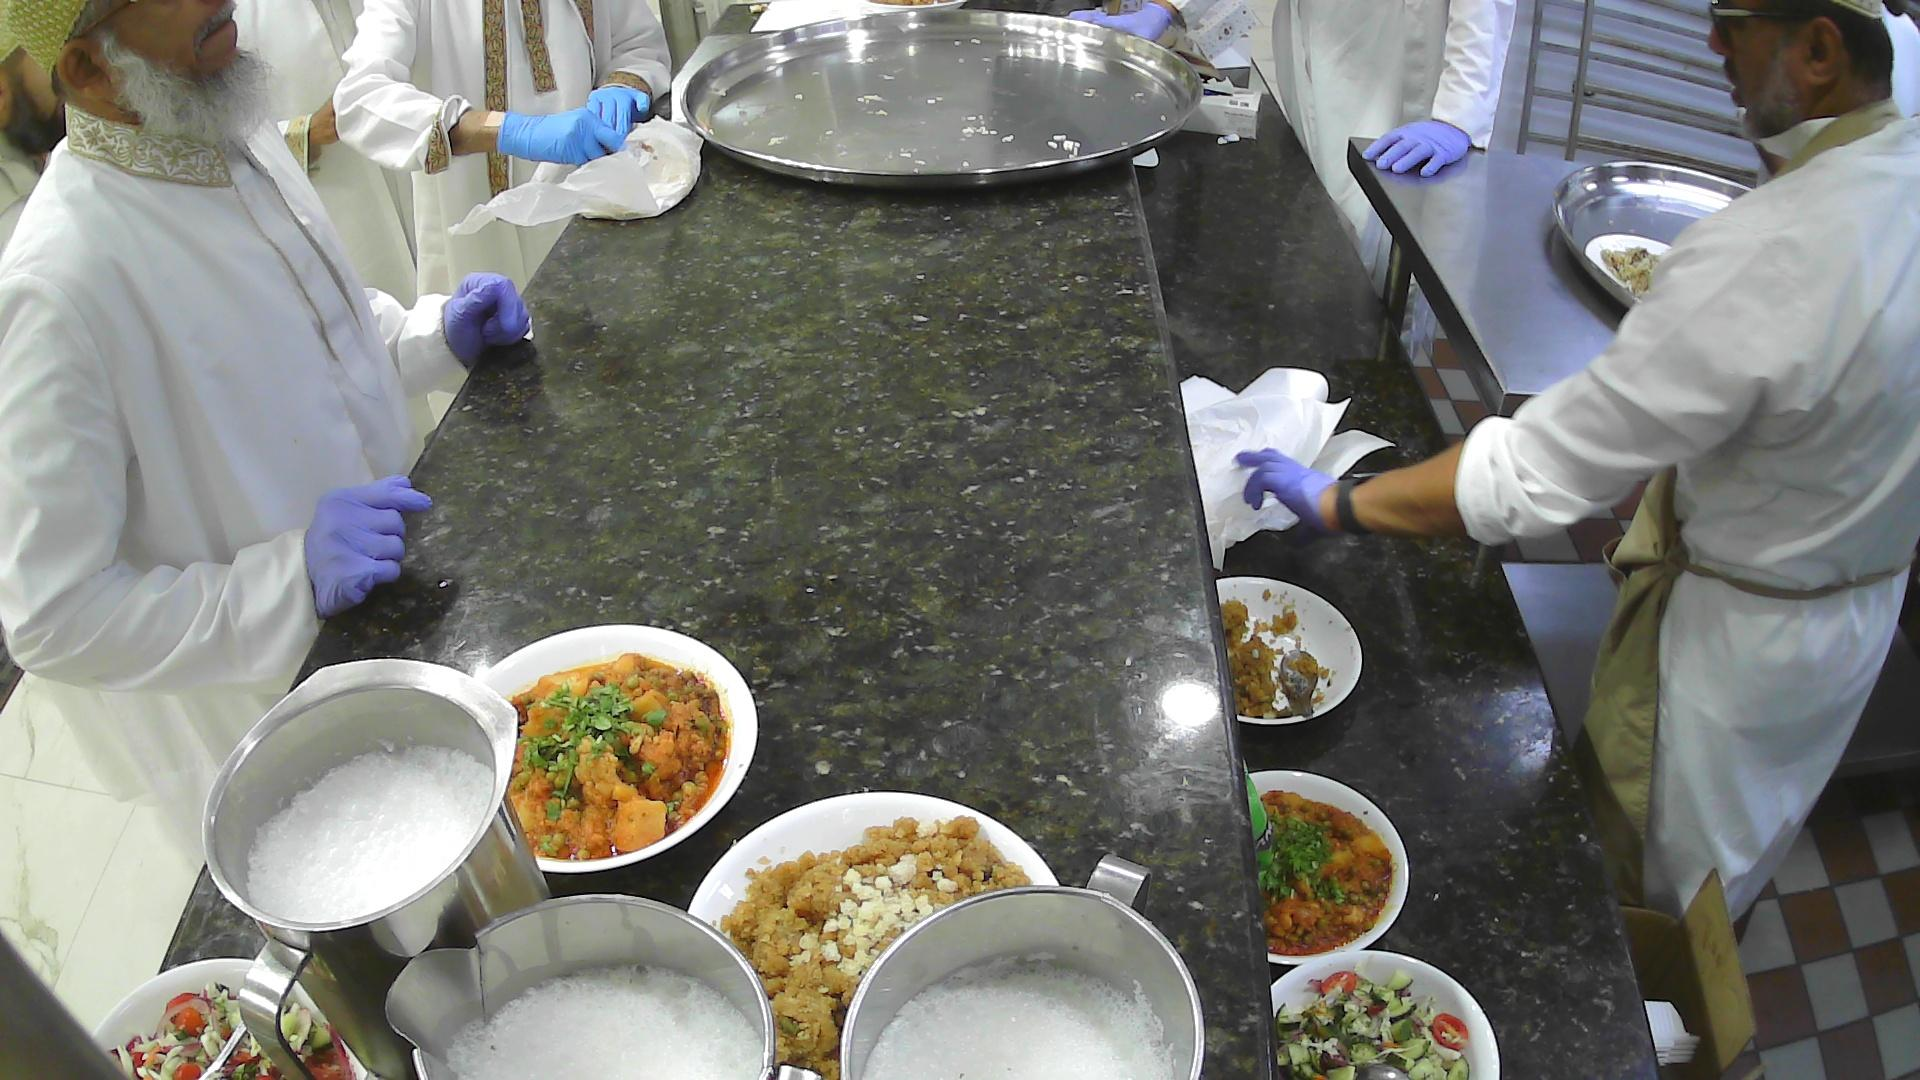thaal: (678, 5, 1203, 189), (1549, 160, 1758, 315)
